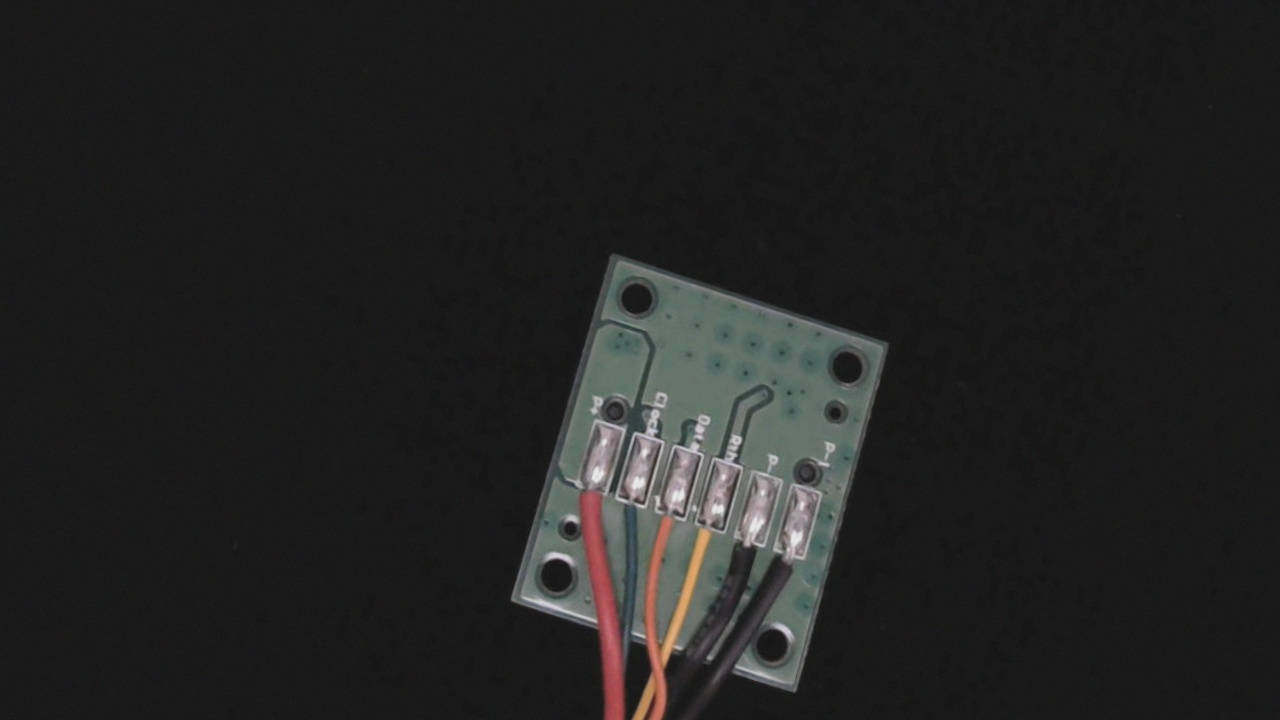Black: (712, 514, 773, 604)
Black1: (759, 530, 817, 613)
Green: (600, 481, 654, 546)
Orange: (633, 491, 691, 579)
Red: (556, 462, 616, 548)
Yellow: (670, 503, 732, 594)
